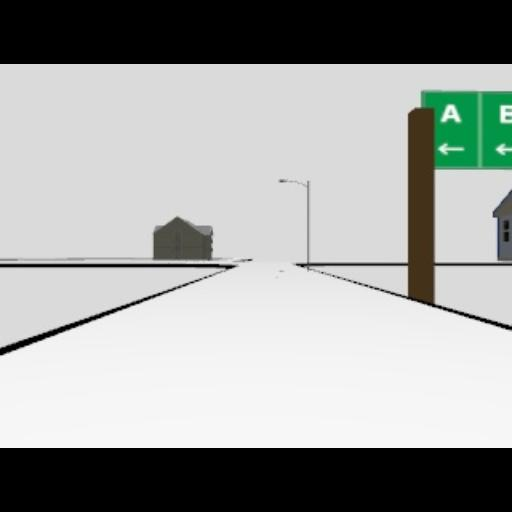A: (438, 102, 462, 124)
B: (498, 104, 512, 124)
Left: (435, 142, 465, 156), (494, 142, 512, 156)
